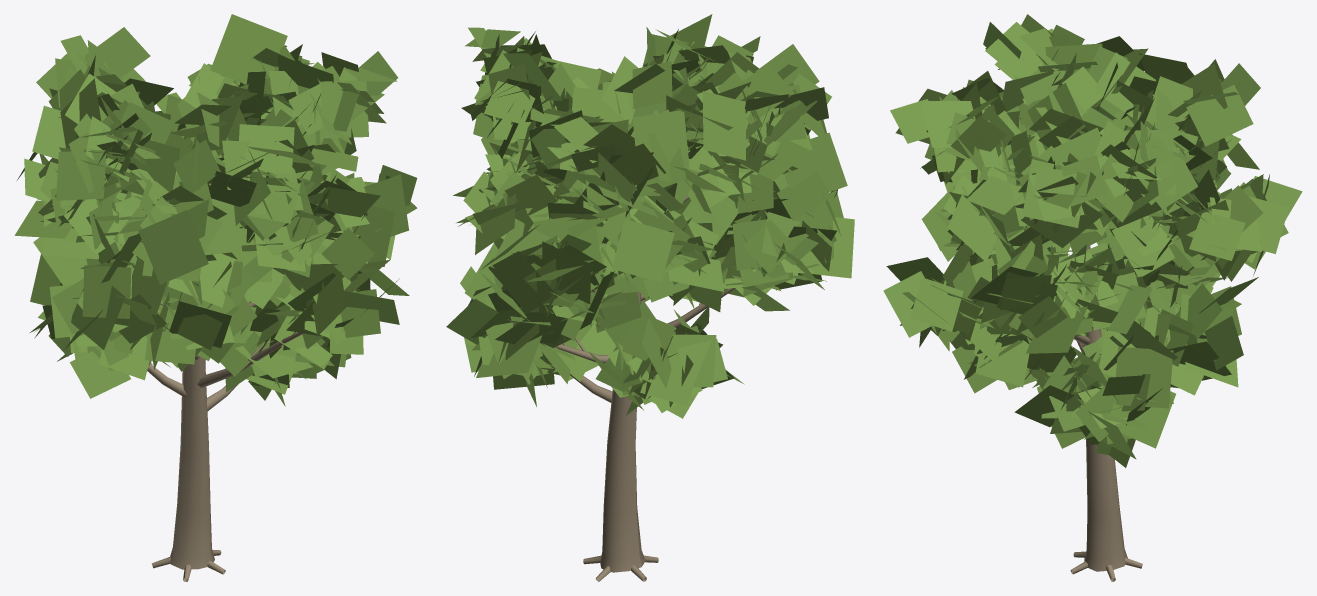
Rendered from oak-0-lod0.glb.
3 renders of one model, left to right at view 1: azimuth 30°, elevation 25°; view 2: azimuth 150°, elevation 25°; view 3: azimuth 270°, elevation 25°, orthographic. The views are drawn at different scales.
Parts seen in each view (by area): view 1: oak-0-lod0-foliage, oak-0-lod0-bark; view 2: oak-0-lod0-foliage, oak-0-lod0-bark; view 3: oak-0-lod0-foliage, oak-0-lod0-bark.
Part boxes in pixels (left/top/right/bottom): oak-0-lod0-foliage: left=14, top=14, right=417, bottom=406; oak-0-lod0-bark: left=147, top=177, right=303, bottom=581; oak-0-lod0-foliage: left=446, top=14, right=854, bottom=418; oak-0-lod0-bark: left=507, top=195, right=742, bottom=581; oak-0-lod0-foliage: left=883, top=14, right=1302, bottom=467; oak-0-lod0-bark: left=993, top=204, right=1185, bottom=581.
Bounding box in the file's own units: 11.89 × 16.04 × 12.17.
